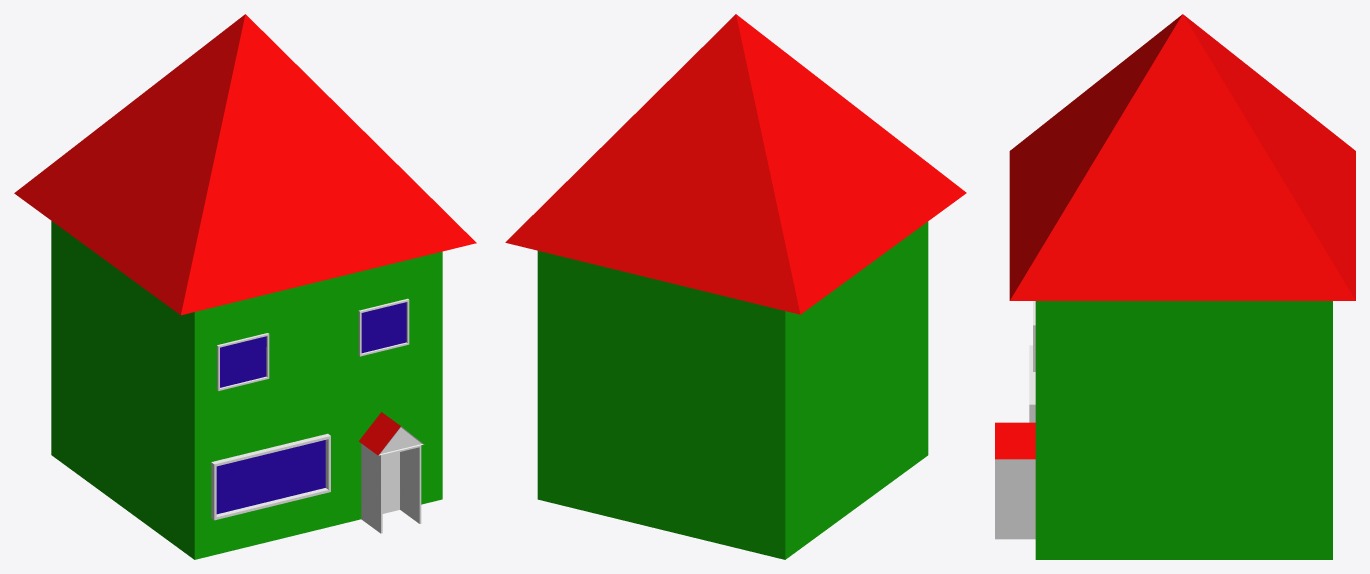
The model's file is House1.FBX.
3 views of the same model, side by side, from view 1: azimuth 30°, elevation 25°; view 2: azimuth 150°, elevation 25°; view 3: azimuth 270°, elevation 25° (orthographic). The views are drawn at different scales.
Parts seen in each view (by area): view 1: Base, Roof; view 2: Base, Roof; view 3: Base, Roof.
Boxes of the visible parts, <box> form: Base: <box>51,221,442,559</box>; Roof: <box>14,14,476,315</box>; Base: <box>537,221,928,559</box>; Roof: <box>505,14,966,314</box>; Base: <box>995,301,1332,559</box>; Roof: <box>1009,14,1355,300</box>.
Size of the model in its own units: 3.58 by 5.37 by 3.64.
